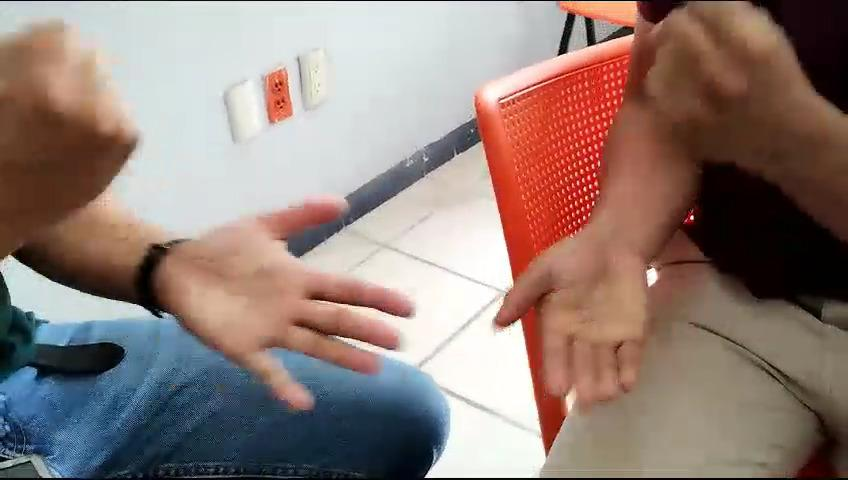Paper: (150, 183, 437, 419), (490, 218, 686, 418)
Stone: (0, 0, 138, 263), (634, 0, 828, 167)
